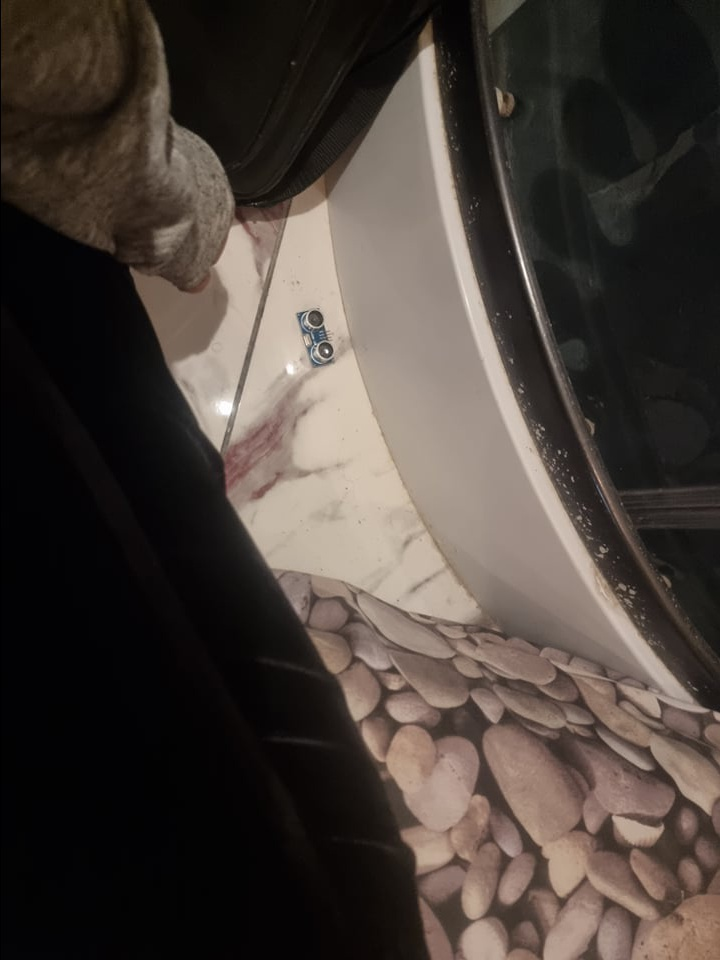SENSOR: (300, 307, 334, 363)
